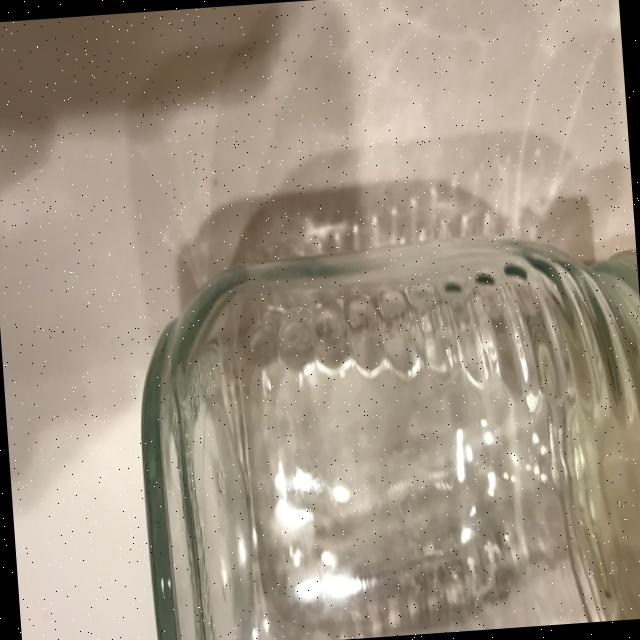glass: (127, 224, 640, 640)
